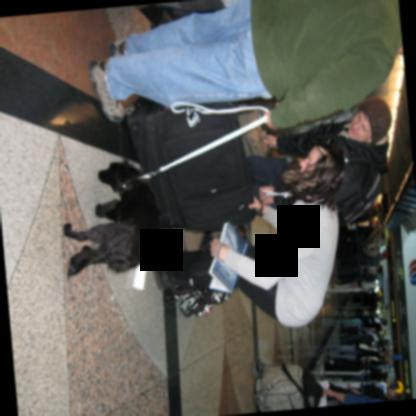backpack: (339, 171, 382, 227)
handbag: (174, 286, 229, 317)
suitcase: (124, 96, 255, 231)
